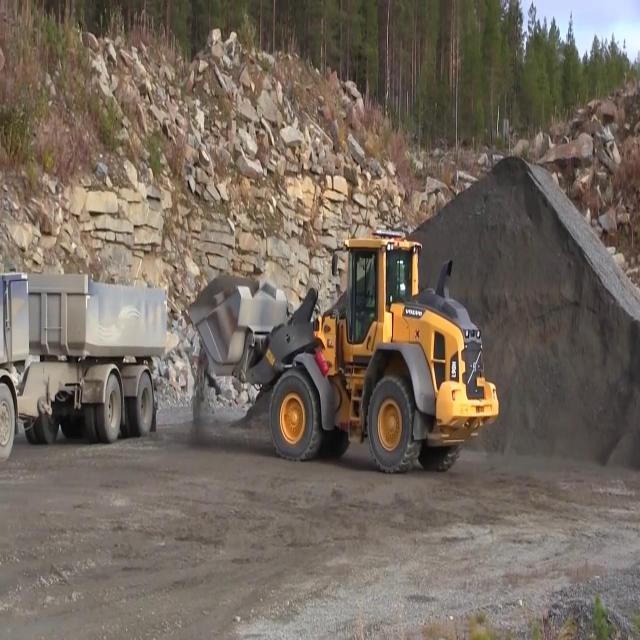Dump Truck: (0, 262, 172, 468)
Loader: (192, 198, 502, 478)
